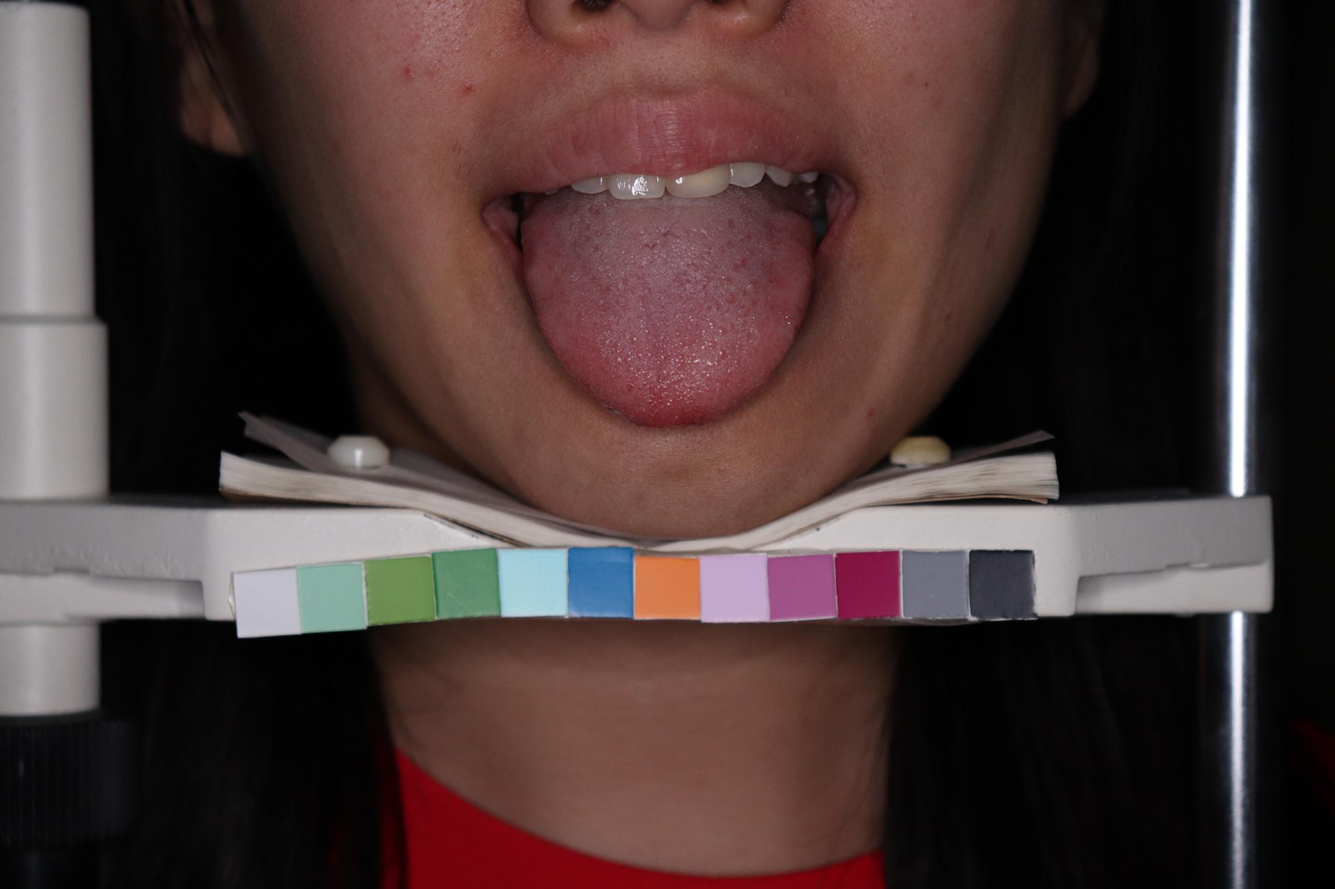baitaishe: (510, 183, 816, 432)
hongdianshe: (695, 281, 776, 381), (544, 212, 623, 310)
